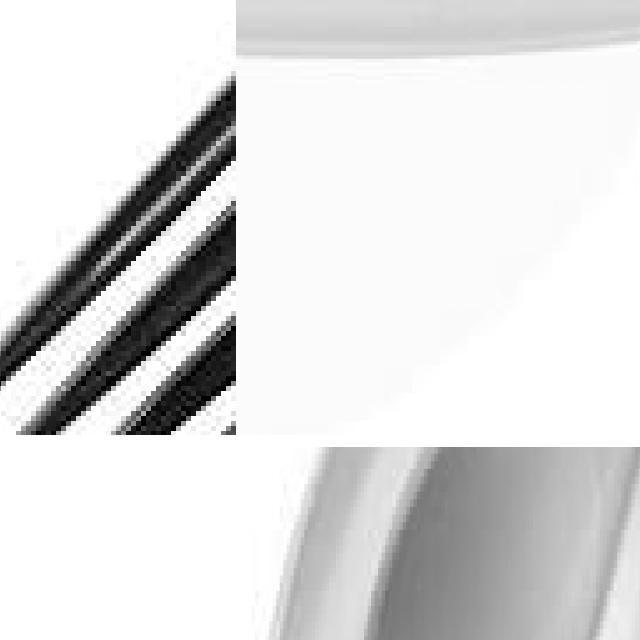forks: (0, 0, 236, 435)
spoons: (236, 488, 640, 640)
